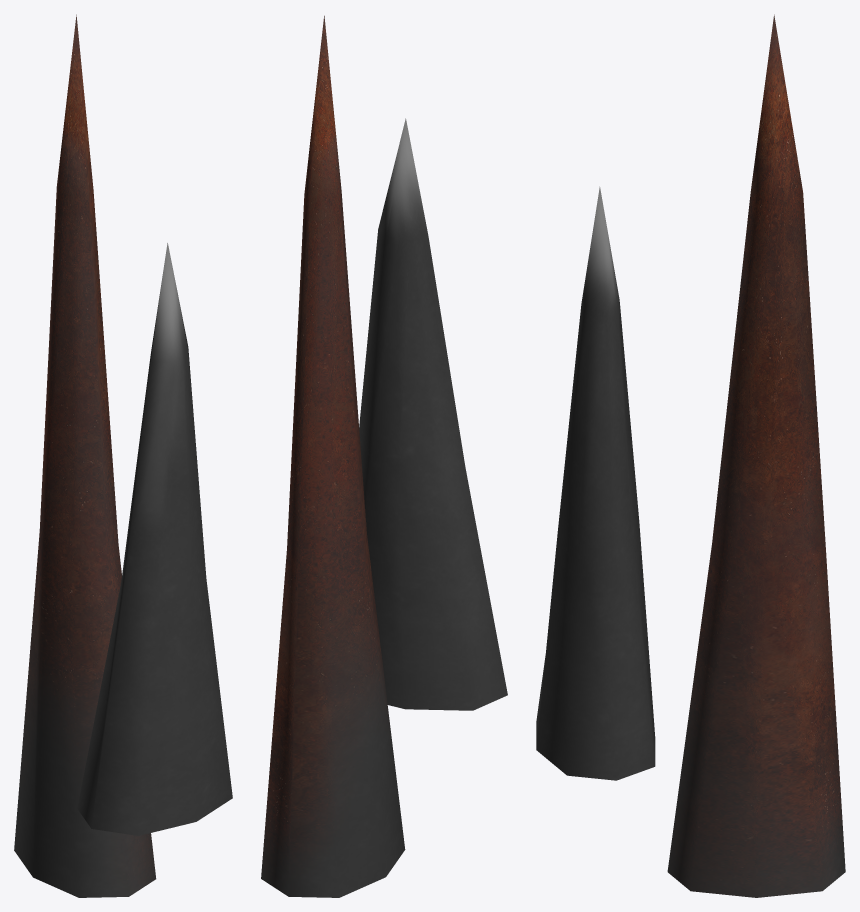
Rendered from needle4.fbx.
The picture shows the model from 3 angles, left to right: view 1: azimuth 30°, elevation 25°; view 2: azimuth 150°, elevation 25°; view 3: azimuth 270°, elevation 25°; orthographic projection.
Visible parts, largest first — view 1: needle4 2, needle4 1; view 2: needle4 2, needle4 1; view 3: needle4 2, needle4 1.
Part boxes in pixels (x1,y1,x2,y2): needle4 2: (14, 14, 156, 897); needle4 1: (77, 243, 232, 835); needle4 2: (261, 15, 405, 897); needle4 1: (359, 118, 507, 710); needle4 2: (667, 14, 845, 897); needle4 1: (536, 186, 655, 780).
Bounding box in the file's own units: 188 × 1025 × 335.
